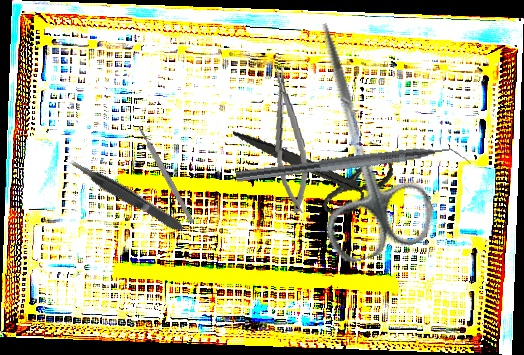Chopper: (235, 138, 472, 199)
Iris Scissors: (267, 9, 442, 268), (232, 101, 400, 234)
Needle Holder: (268, 64, 312, 215)
Scalpel Handle: (136, 125, 196, 225)
Tissue Forceps: (66, 154, 186, 237)
